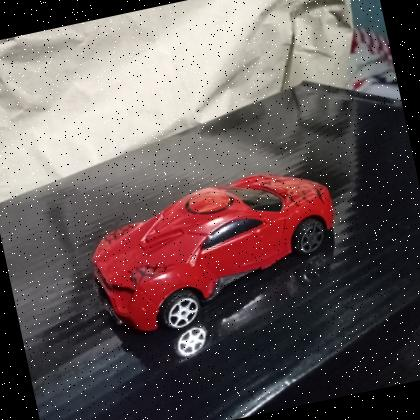Car: (72, 152, 356, 352)
